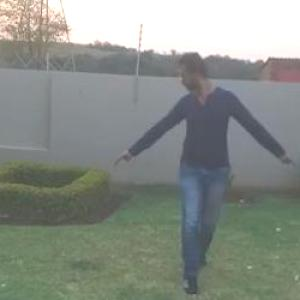land: (110, 41, 299, 299)
